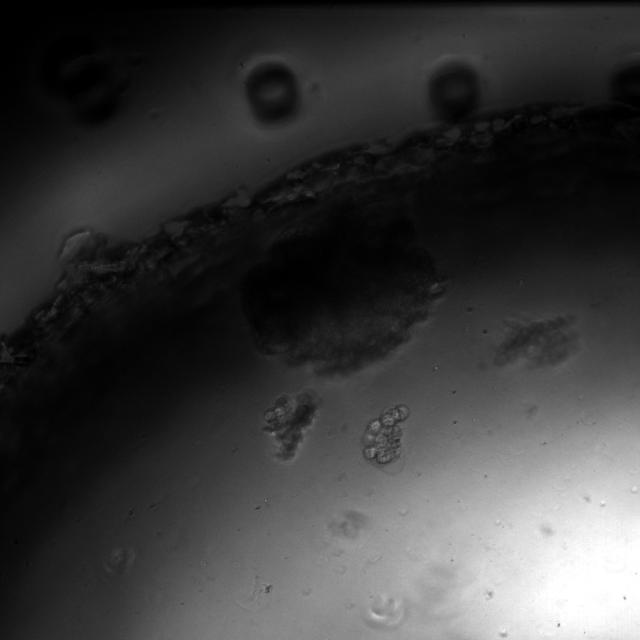organoid: (243, 207, 442, 374), (494, 316, 576, 366), (262, 390, 318, 461), (361, 405, 408, 465)
